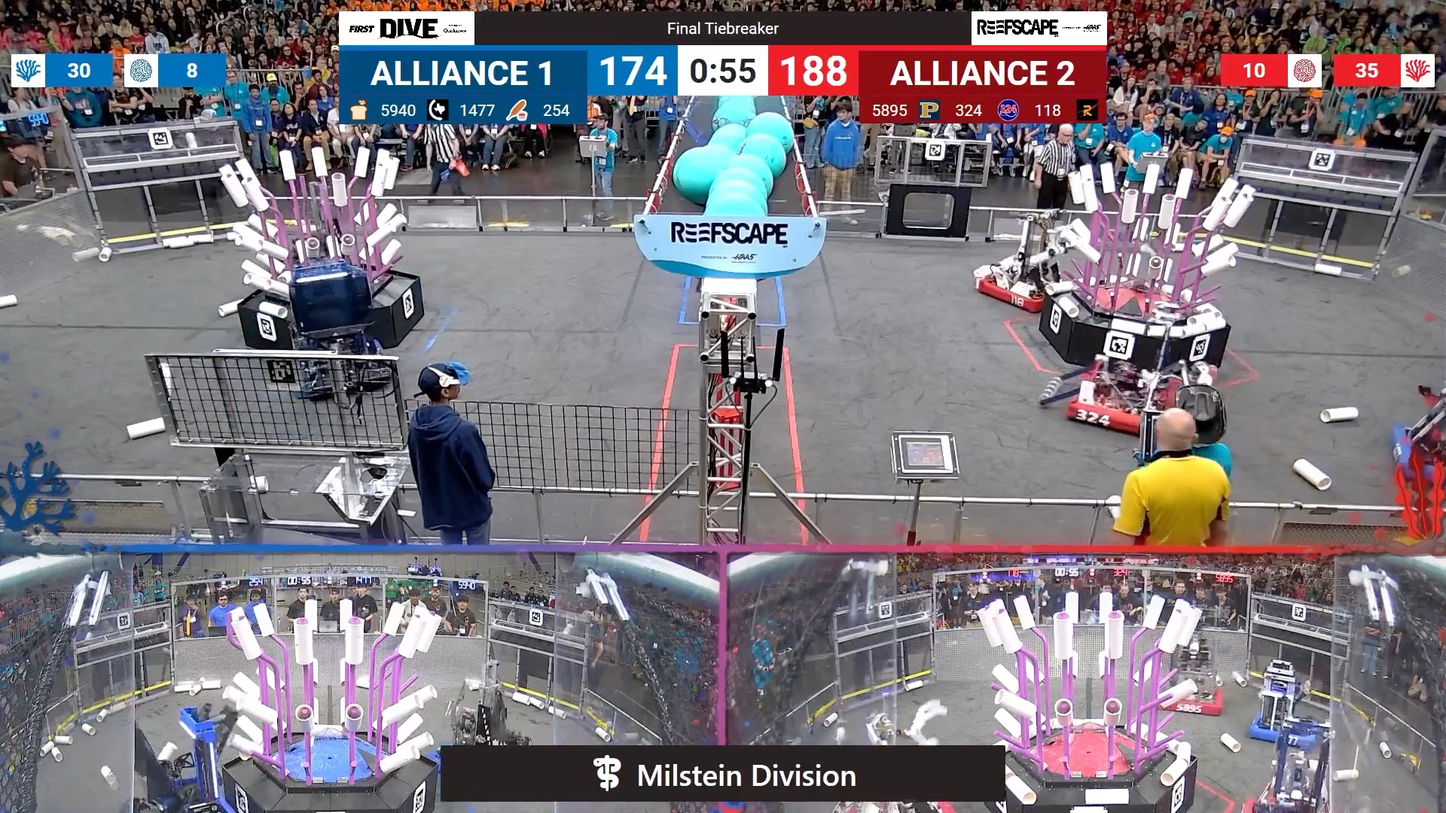bumpers: (1056, 365, 1192, 441), (973, 270, 1069, 319), (1241, 708, 1327, 749), (1240, 787, 1353, 813), (117, 792, 244, 813), (1154, 688, 1229, 720)
